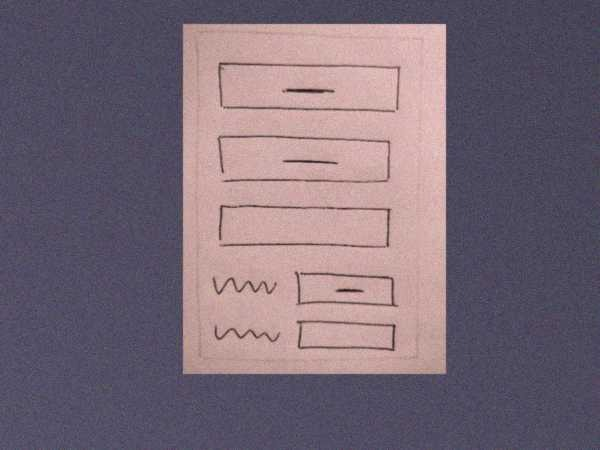button: (215, 58, 401, 121), (212, 128, 398, 191), (291, 268, 399, 313)
text: (206, 266, 280, 300), (210, 318, 283, 352)
text_input: (213, 201, 393, 256), (294, 318, 398, 355)
